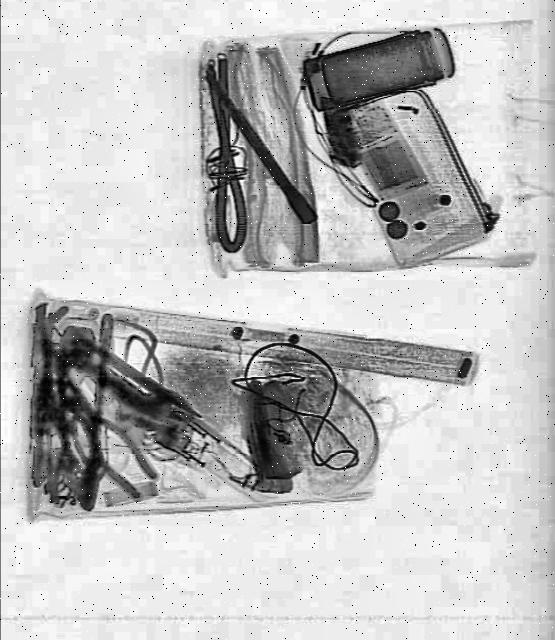Pliers: (47, 375, 164, 505)
Wrench: (76, 312, 122, 518)
